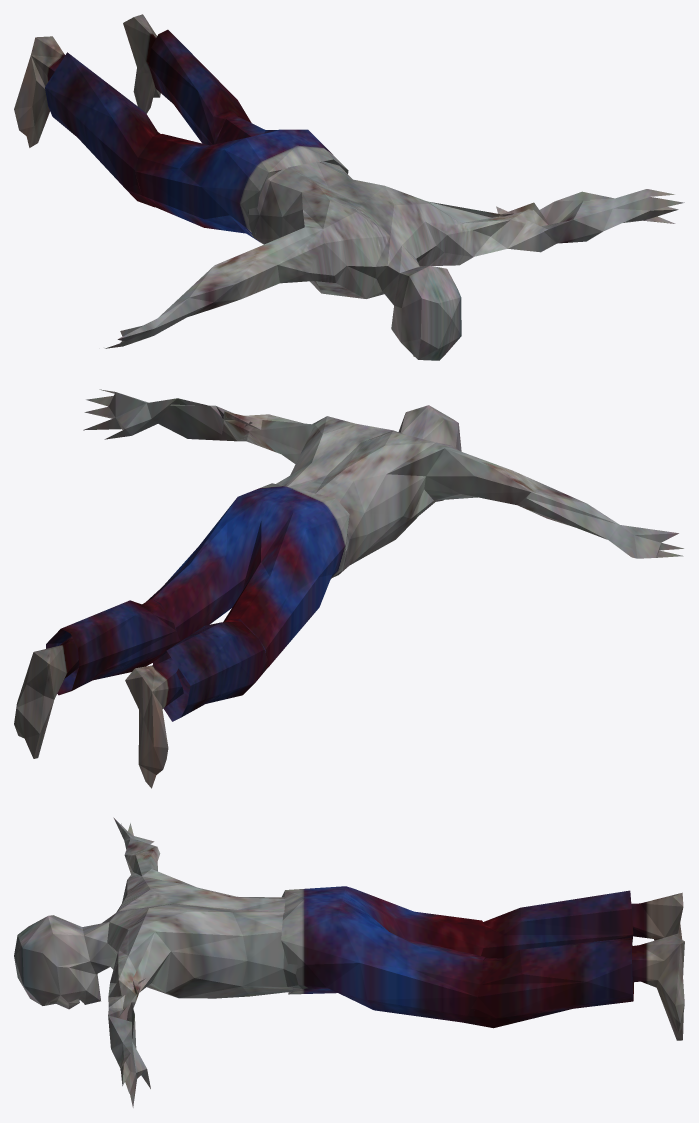
The model's file is zombie_wtf.obj.
3 views of the same model, one above another, from view 1: azimuth 30°, elevation 25°; view 2: azimuth 150°, elevation 25°; view 3: azimuth 270°, elevation 25° (orthographic). The views are drawn at different scales.
Parts seen in each view (by area): view 1: group1; view 2: group1; view 3: group1.
Boxes of the visible parts, <box> form: group1: <box>14,14,684,360</box>; group1: <box>14,389,683,788</box>; group1: <box>14,817,684,1107</box>.
Size of the model in its own units: 627 by 135 by 660.
